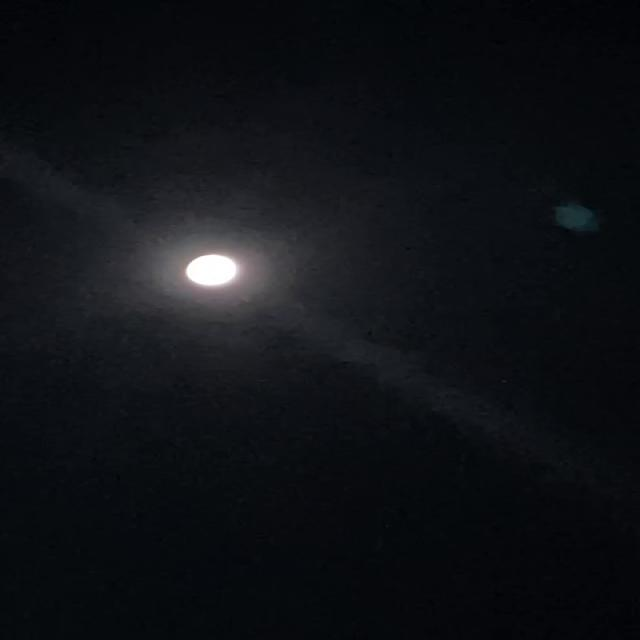moon: (165, 248, 256, 294)
